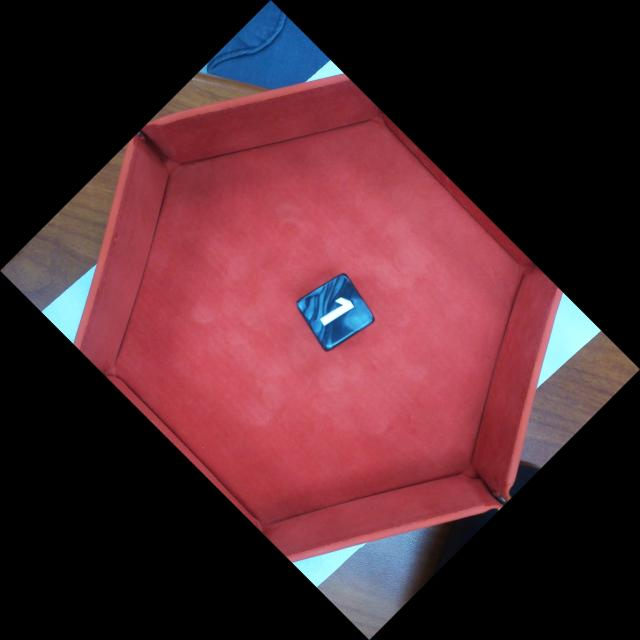dice: (306, 273, 376, 350)
